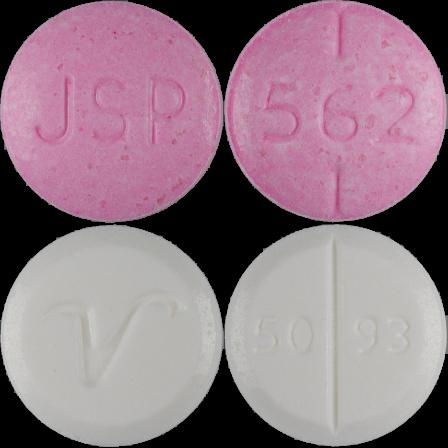43063-423: (0, 0, 224, 224)
